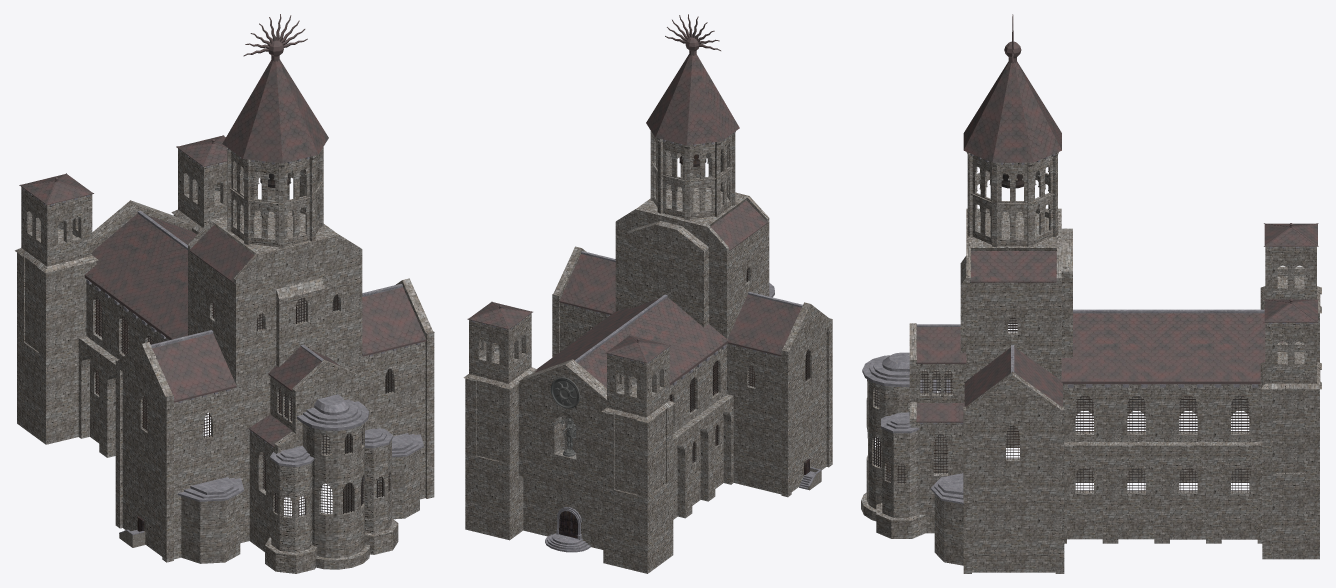
The model's file is Church.fbx.
3 views of the same model, side by side, from view 1: azimuth 30°, elevation 25°; view 2: azimuth 150°, elevation 25°; view 3: azimuth 270°, elevation 25° (orthographic). The views are drawn at different scales.
Parts seen in each view (by area): view 1: StoneBrickWalls, CopperRoof, StoneRoof, WindowBars, StoneBeams; view 2: StoneBrickWalls, CopperRoof, StoneBeams, FrontDoorFrame, WindowBars, SunSymbol; view 3: StoneBrickWalls, CopperRoof, WindowBars, StoneRoof, StoneBeams.
Boxes of the visible parts, <box> form: StoneBrickWalls: <box>15,147,434,573</box>; CopperRoof: <box>19,14,426,447</box>; StoneRoof: <box>177,394,423,501</box>; WindowBars: <box>95,294,393,517</box>; StoneBeams: <box>22,148,420,447</box>; StoneBrickWalls: <box>463,131,832,573</box>; CopperRoof: <box>467,14,801,387</box>; StoneBeams: <box>471,132,802,385</box>; FrontDoorFrame: <box>545,507,590,552</box>; WindowBars: <box>589,267,810,463</box>; SunSymbol: <box>550,377,580,408</box>; StoneBrickWalls: <box>861,152,1321,573</box>; CopperRoof: <box>916,14,1318,422</box>; WindowBars: <box>872,317,1249,492</box>; StoneRoof: <box>862,352,963,504</box>; StoneBeams: <box>916,154,1313,424</box>.
Bounding box in the file's own units: 4407 × 7511 × 6372.
11 materials, 11 textured.
